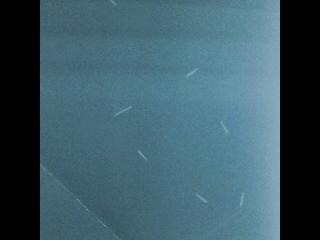crack: (39, 163, 121, 240)
scratch: (192, 188, 209, 204), (135, 147, 151, 164), (183, 65, 201, 80), (236, 191, 248, 213), (216, 119, 230, 137), (114, 105, 133, 117), (107, 0, 121, 8)
